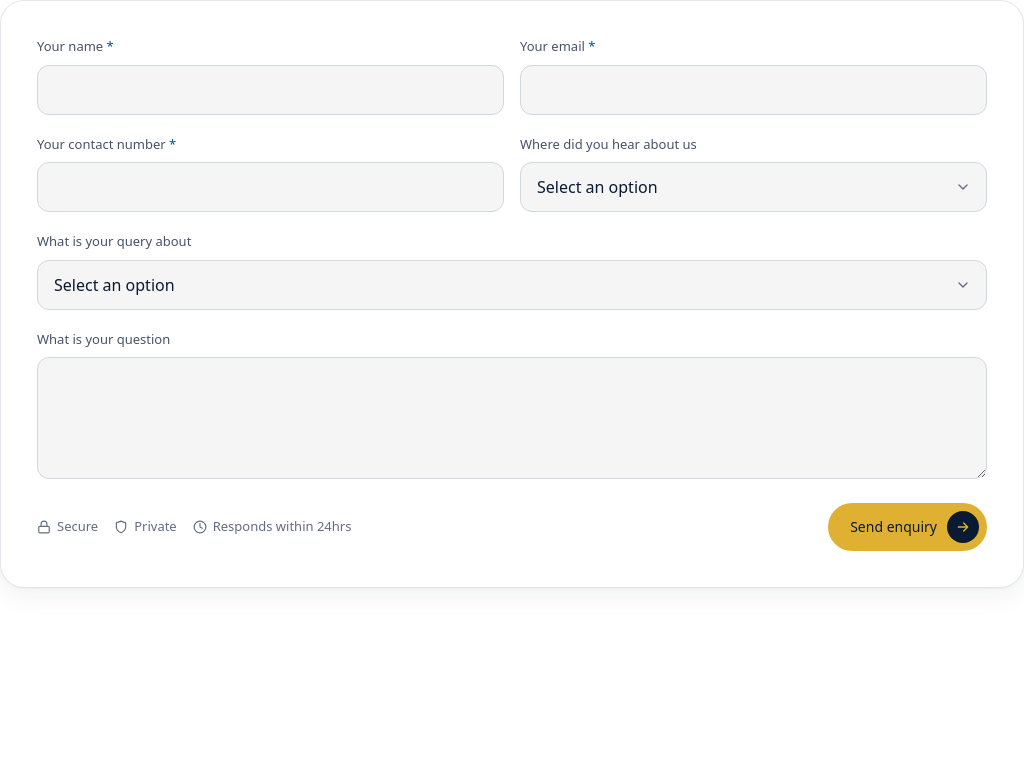
Test: EnquiryForm › clears a field error as soon as the user edits it
Click the button "Send enquiry Send enquiry" at point(908, 527), box [828,503,987,551]
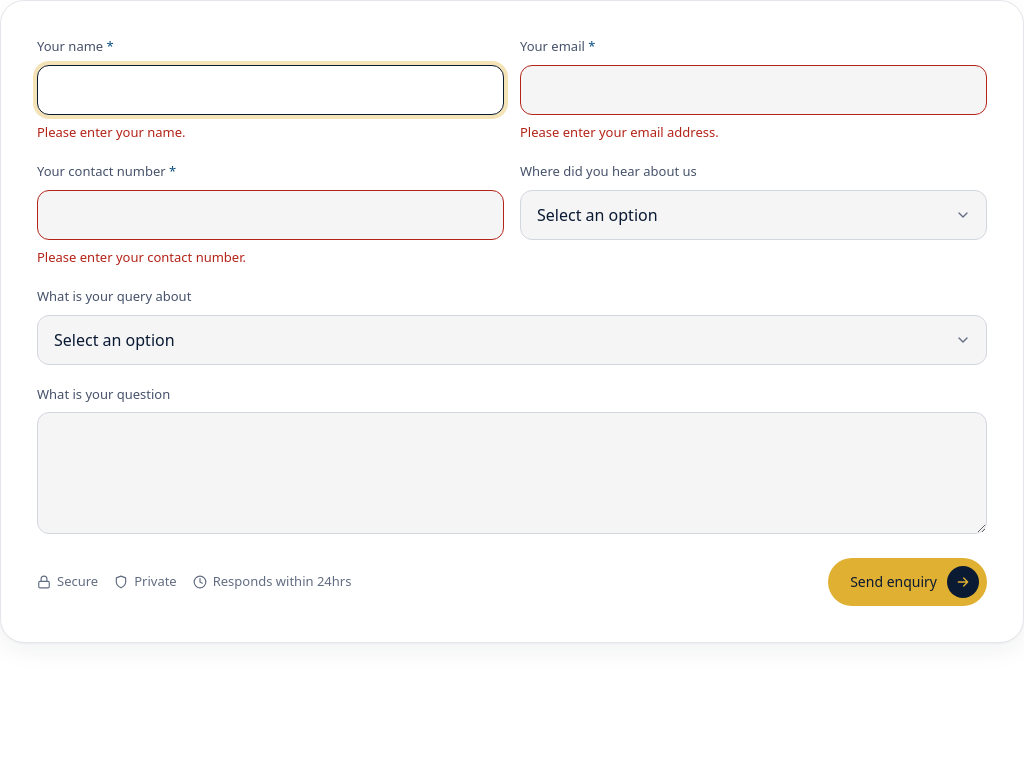
Type "A" into the field labelled "Your name *" at point(270, 90), box [37,64,504,114]
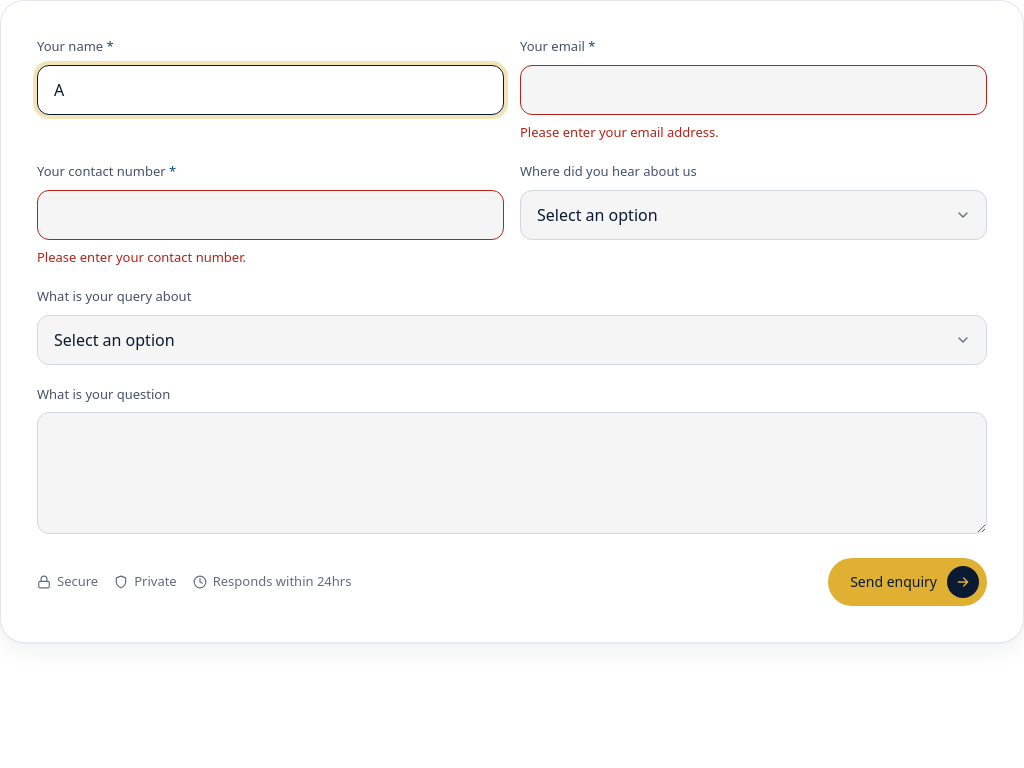
Expected: the text "Please enter your email address." is shown, [520,122,719,140]
Expected: the text "Please enter your name." is gone
